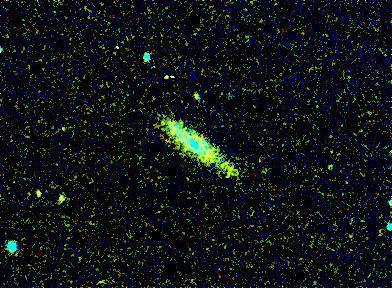star: (164, 61, 194, 91)
